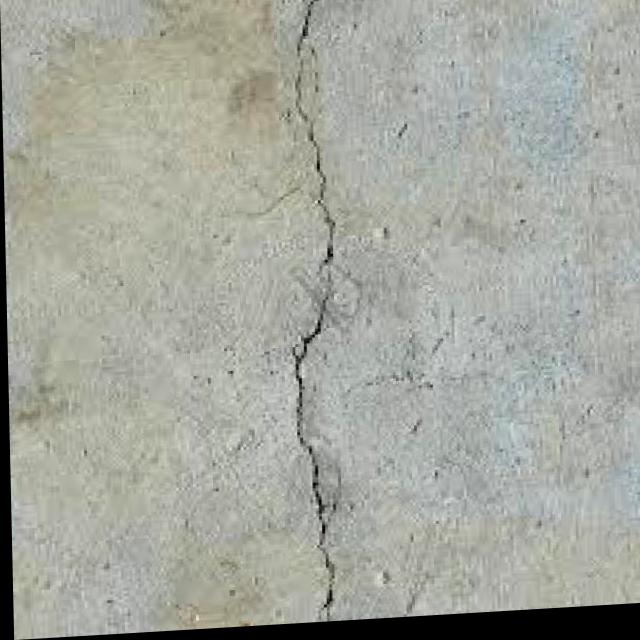Crack: (263, 0, 363, 628)
